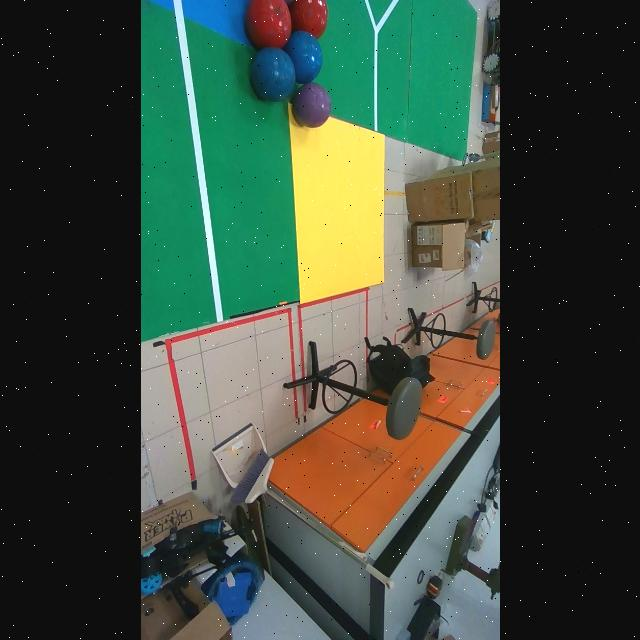B: (252, 48, 296, 103), (283, 31, 322, 83)
P: (293, 82, 331, 128)
R: (246, 0, 292, 49), (288, 0, 329, 39)
